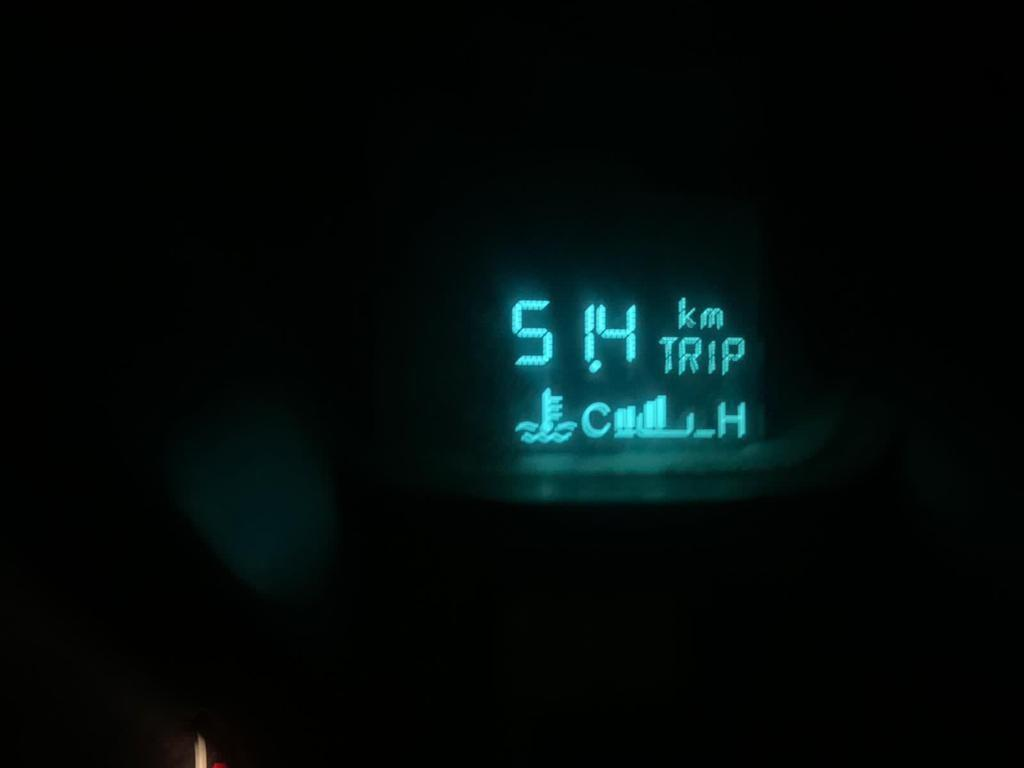,: (586, 358, 603, 374)
1: (578, 300, 594, 365)
4: (594, 302, 639, 361)
5: (507, 296, 556, 368)
X: (578, 399, 613, 440), (716, 398, 746, 441), (720, 335, 748, 377), (676, 335, 703, 376), (656, 333, 677, 374), (674, 295, 697, 331), (697, 305, 727, 331), (704, 337, 719, 375)
odometer: (459, 263, 782, 466)
